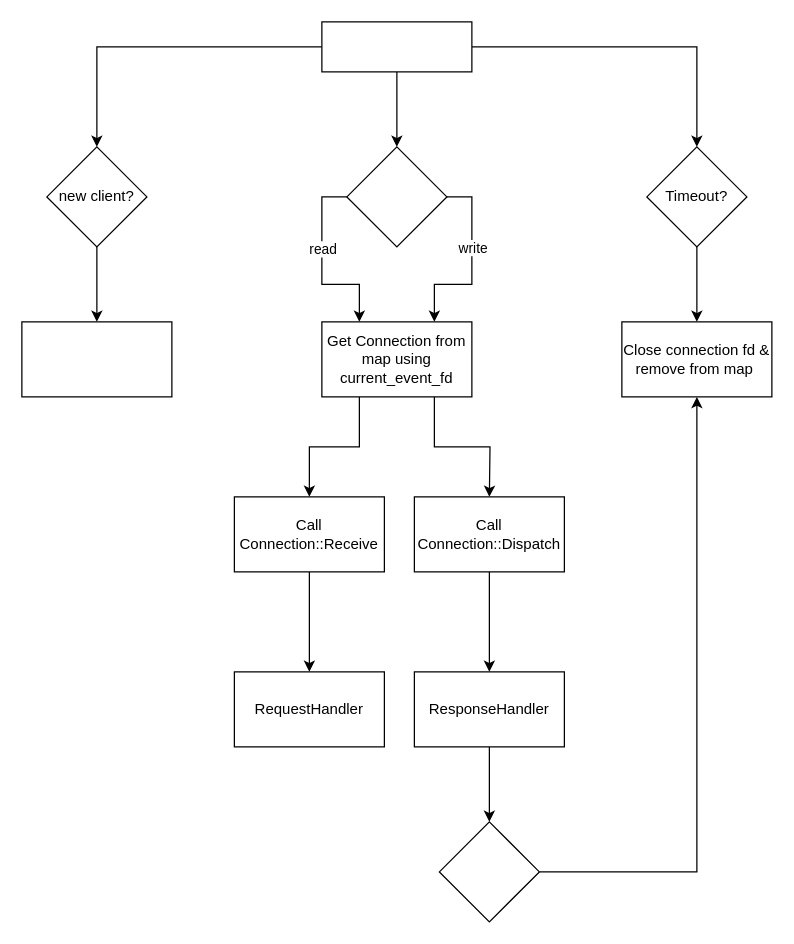
The diagram is 794 pixels wide and 944 high, and some of its shapes have lost their labels. The centre of each missing label's shape, as x and y in pixels:
create new Connection & add to map: the point at 96,359
Event?: the point at 396,196
response done?: the point at 488,871
Server Event Handler: the point at 396,46
